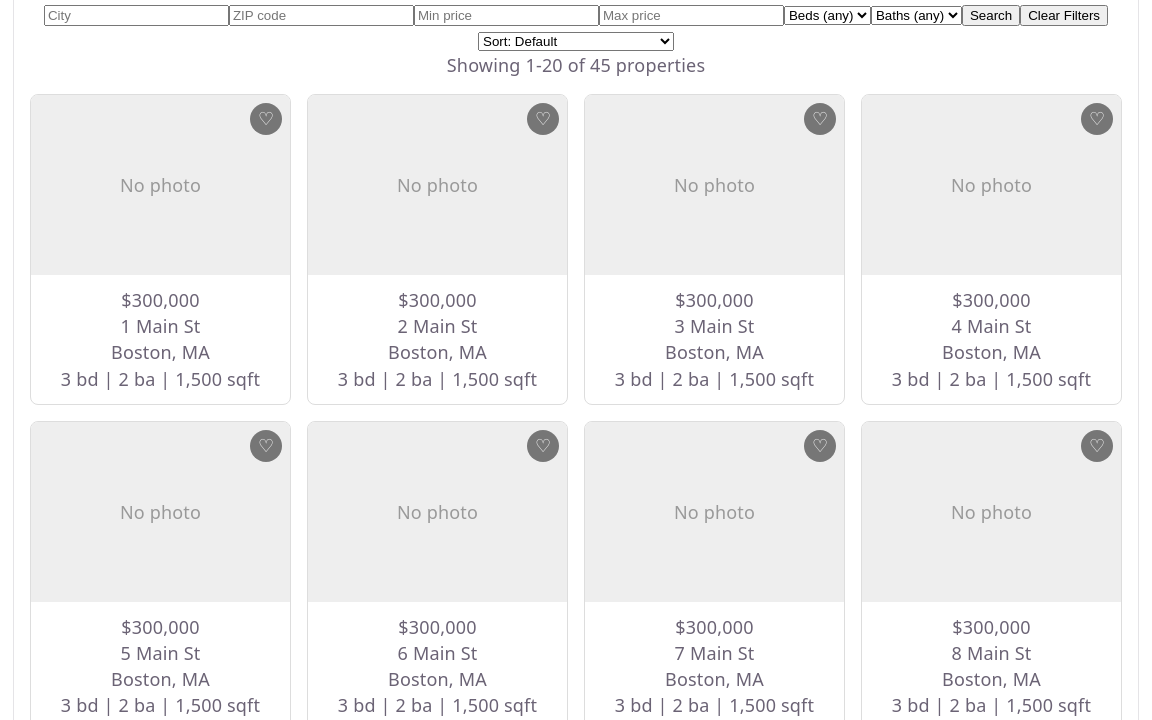
Test case: ListingsPage pagination › preserves active filters and scrolls to top when changing pages
The image size is (1152, 720).
Check: the text "Showing 1-20 of 45 properties" is shown, box [447, 53, 705, 77]
Type "Boston" into the field with placeholder "City" at (136, 16), box [44, 5, 229, 26]
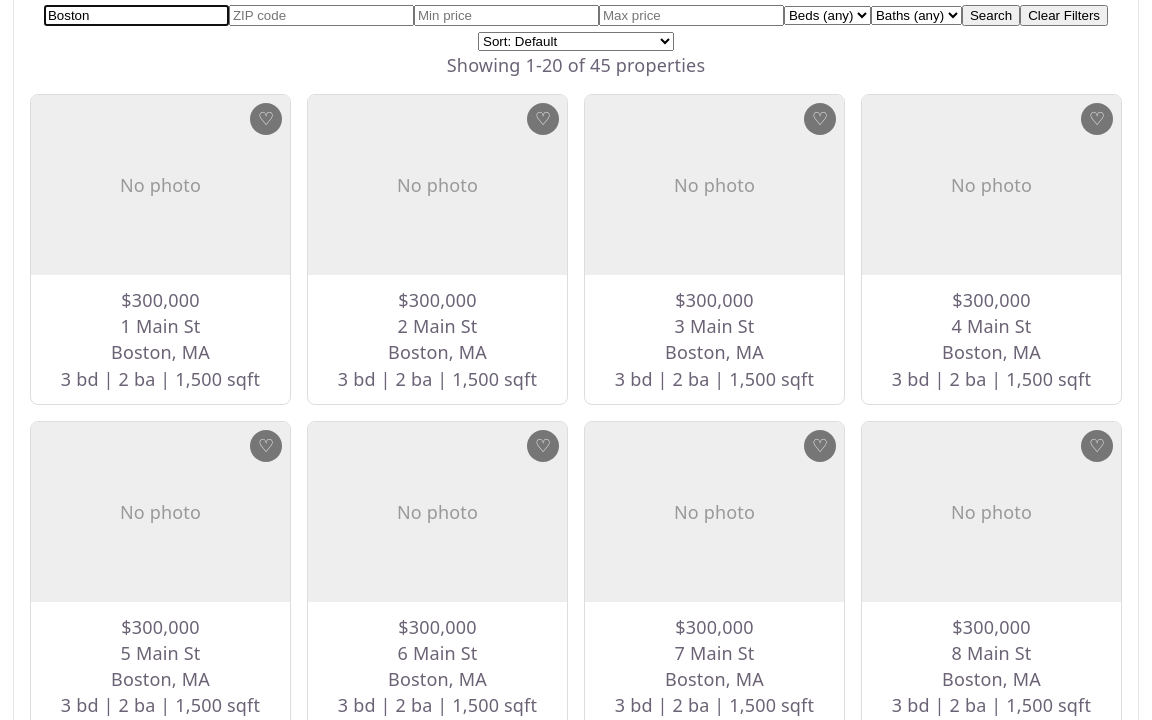
Click the button "Search" at (991, 16), box [962, 5, 1020, 26]
(page scrolled)
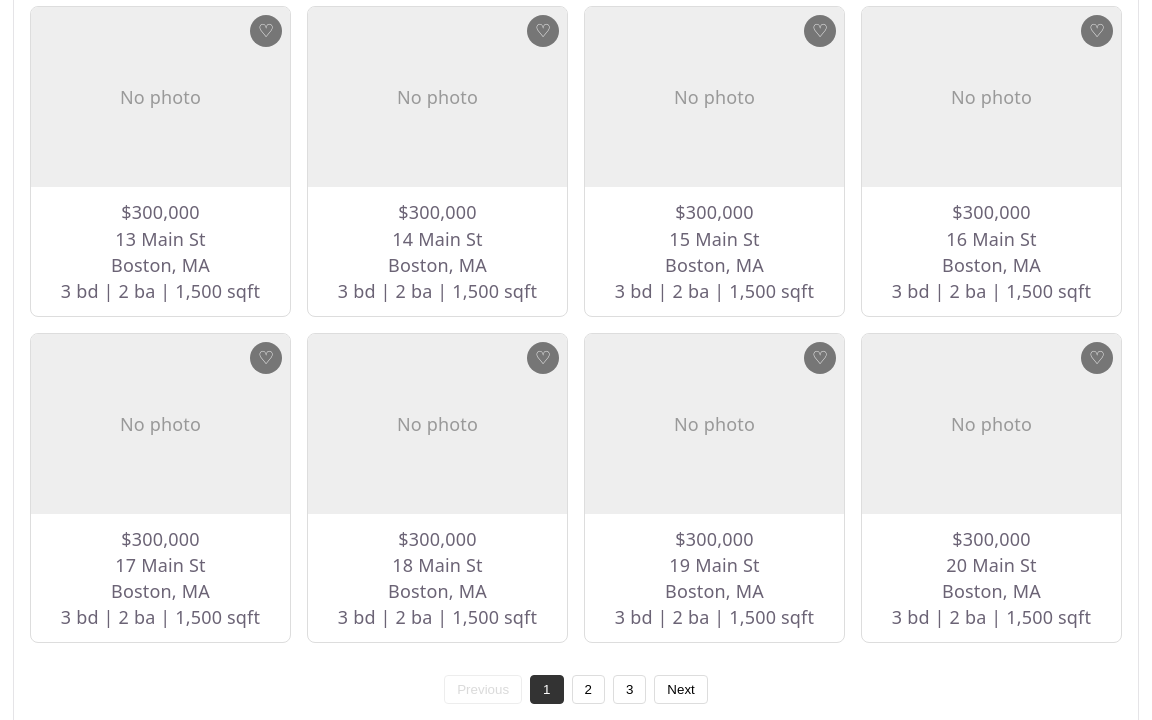
Click the button "Next" at (681, 690), box [654, 675, 708, 704]
(page scrolled)
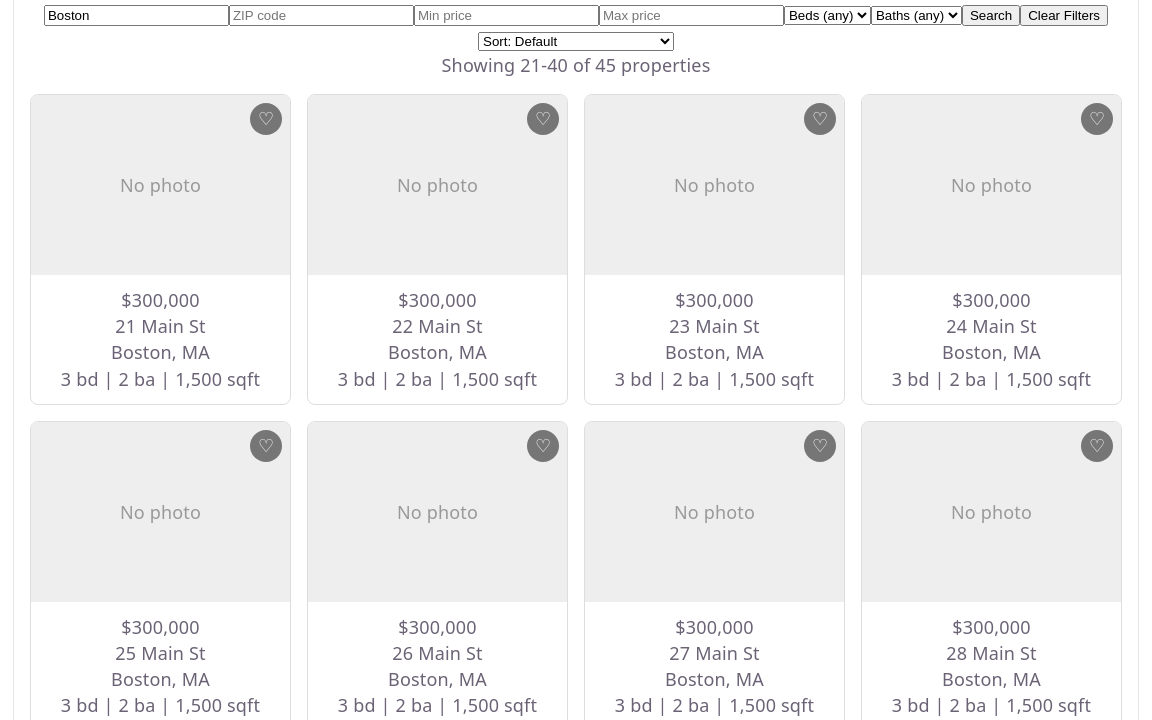
Check: the text "Showing 21-40 of 45 properties" is shown, box [442, 53, 710, 77]
